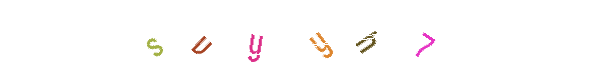7: (283, 0, 363, 80)
H: (272, 0, 352, 80)
S: (175, 0, 255, 80)
V: (229, 0, 309, 80)
Y: (245, 0, 325, 80), (260, 0, 340, 80)
